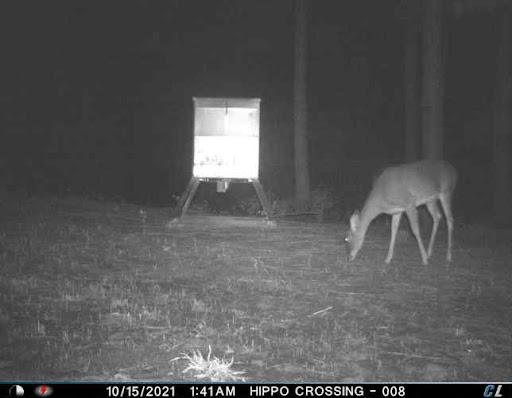Deer: (338, 158, 472, 279)
